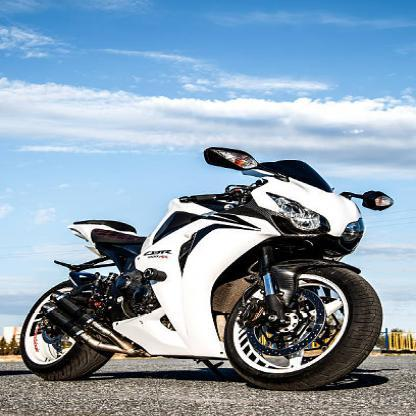Motorcycle: (16, 136, 393, 389)
